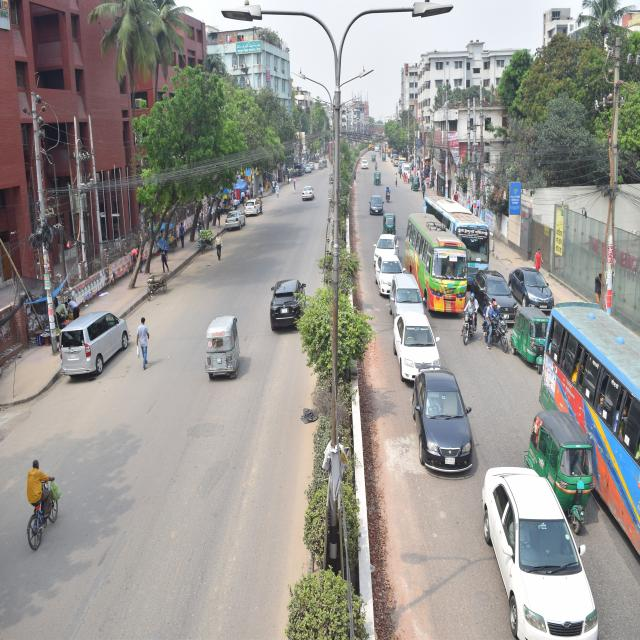bus: (408, 212, 470, 308), (420, 189, 490, 257)
car: (483, 456, 597, 640), (399, 363, 483, 470), (387, 303, 436, 365), (268, 274, 306, 335), (476, 267, 518, 320), (510, 249, 548, 306), (384, 278, 420, 312), (373, 264, 401, 294), (296, 178, 320, 213), (369, 236, 396, 262), (226, 205, 247, 230), (368, 196, 385, 222), (248, 187, 264, 214), (357, 160, 370, 175)
microbus: (50, 318, 135, 380)
motorbike: (492, 286, 517, 353), (456, 291, 484, 349), (382, 187, 395, 210)
